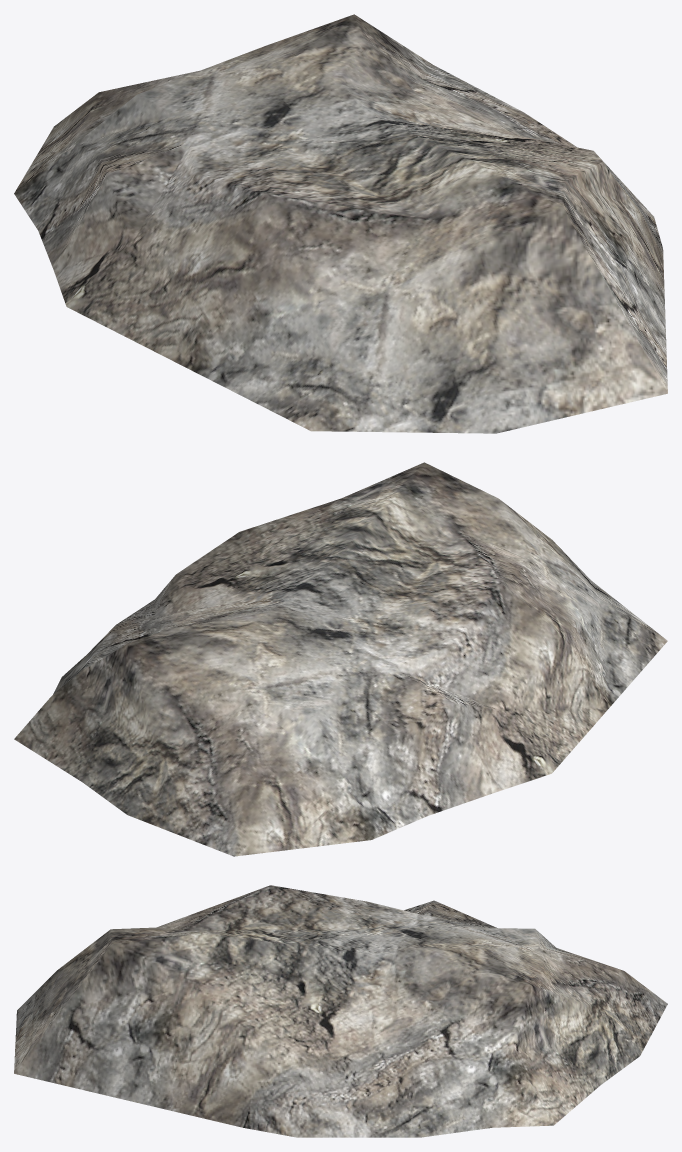
File: rock.FBX
3 views of the same model, one above another, from view 1: azimuth 30°, elevation 25°; view 2: azimuth 150°, elevation 25°; view 3: azimuth 270°, elevation 25° (orthographic). The views are drawn at different scales.
Visible parts, largest first — view 1: rock; view 2: rock; view 3: rock.
Boxes of the visible parts, <box> form: rock: <box>14,14,667,433</box>; rock: <box>14,462,667,856</box>; rock: <box>14,885,667,1137</box>.
Size of the model in its own units: 73.25 by 19.97 by 102.
